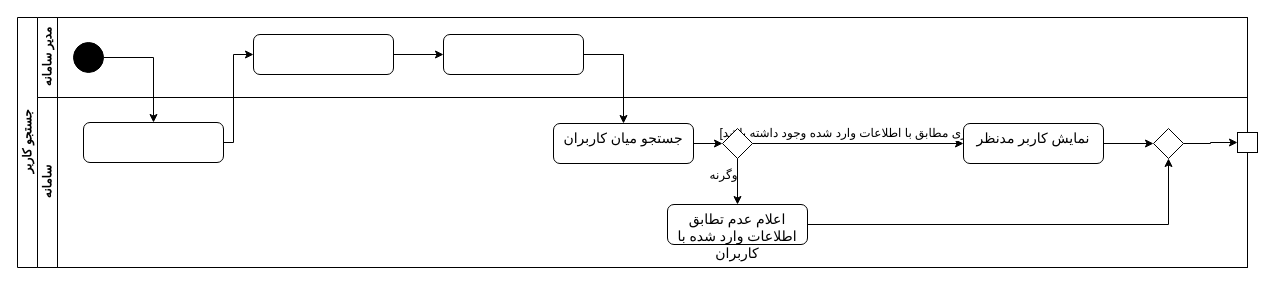
The diagram is 1275 pixels wide and 285 high, and some of its shapes have lost their labels. Each missing label, with the centre of its shape:
"انتخاب شاخصه‌های جستجو" belongs at (x=323, y=54).
"نمایش صفحه جستجو" belongs at (x=153, y=142).
"وارد کردن اطلاعات کاربر مدنظر" belongs at (x=513, y=54).
